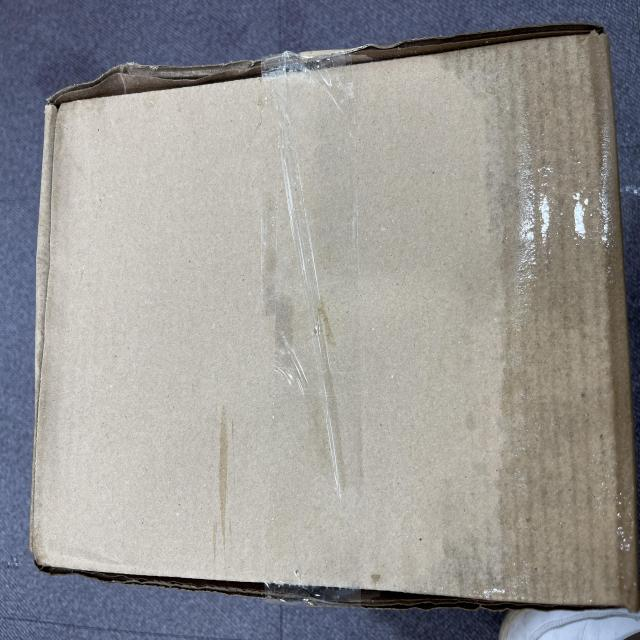wet: (22, 43, 448, 640)
